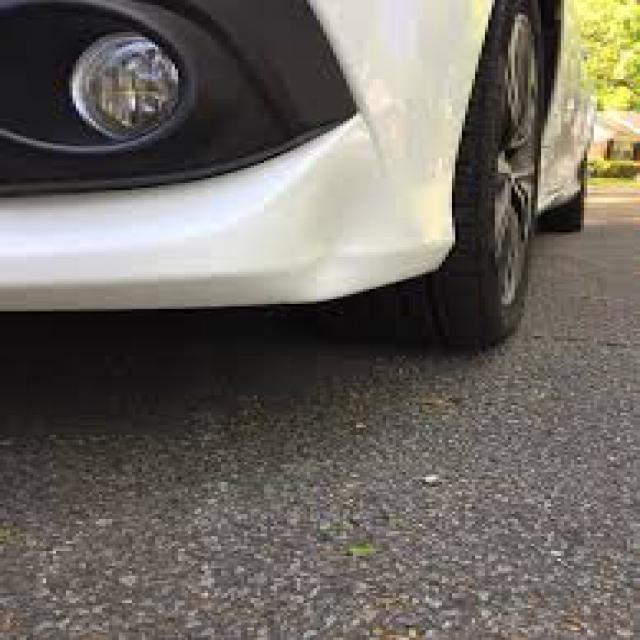front-bumper-dent: (0, 5, 508, 344)
